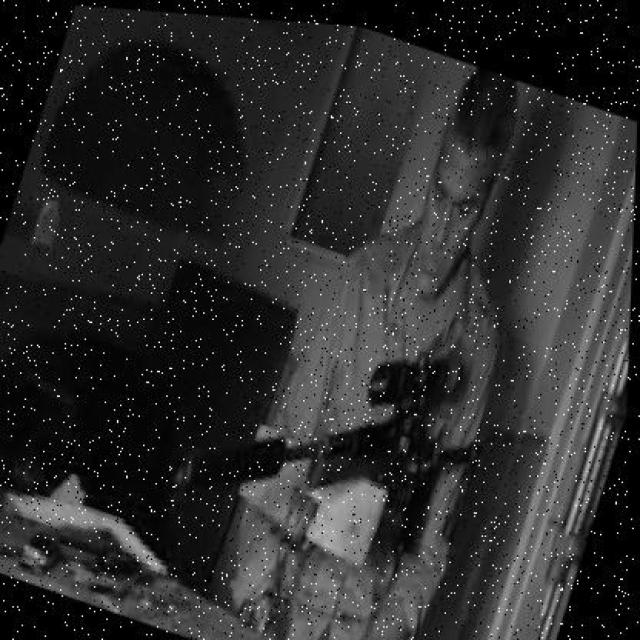weapon: (173, 354, 509, 563)
